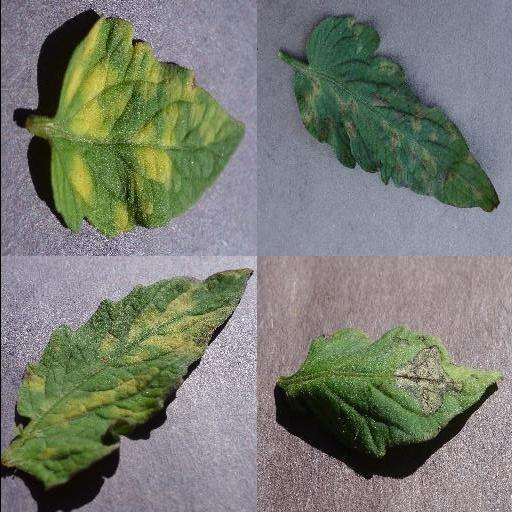Early Blight: (278, 329, 504, 460)
Leaf Mold: (0, 269, 254, 488), (48, 16, 248, 238), (290, 16, 500, 212)
